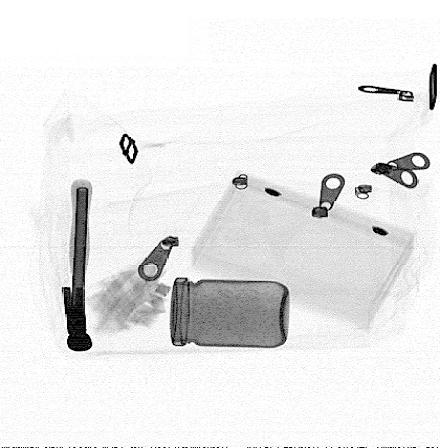Hammer: (62, 178, 93, 353)
